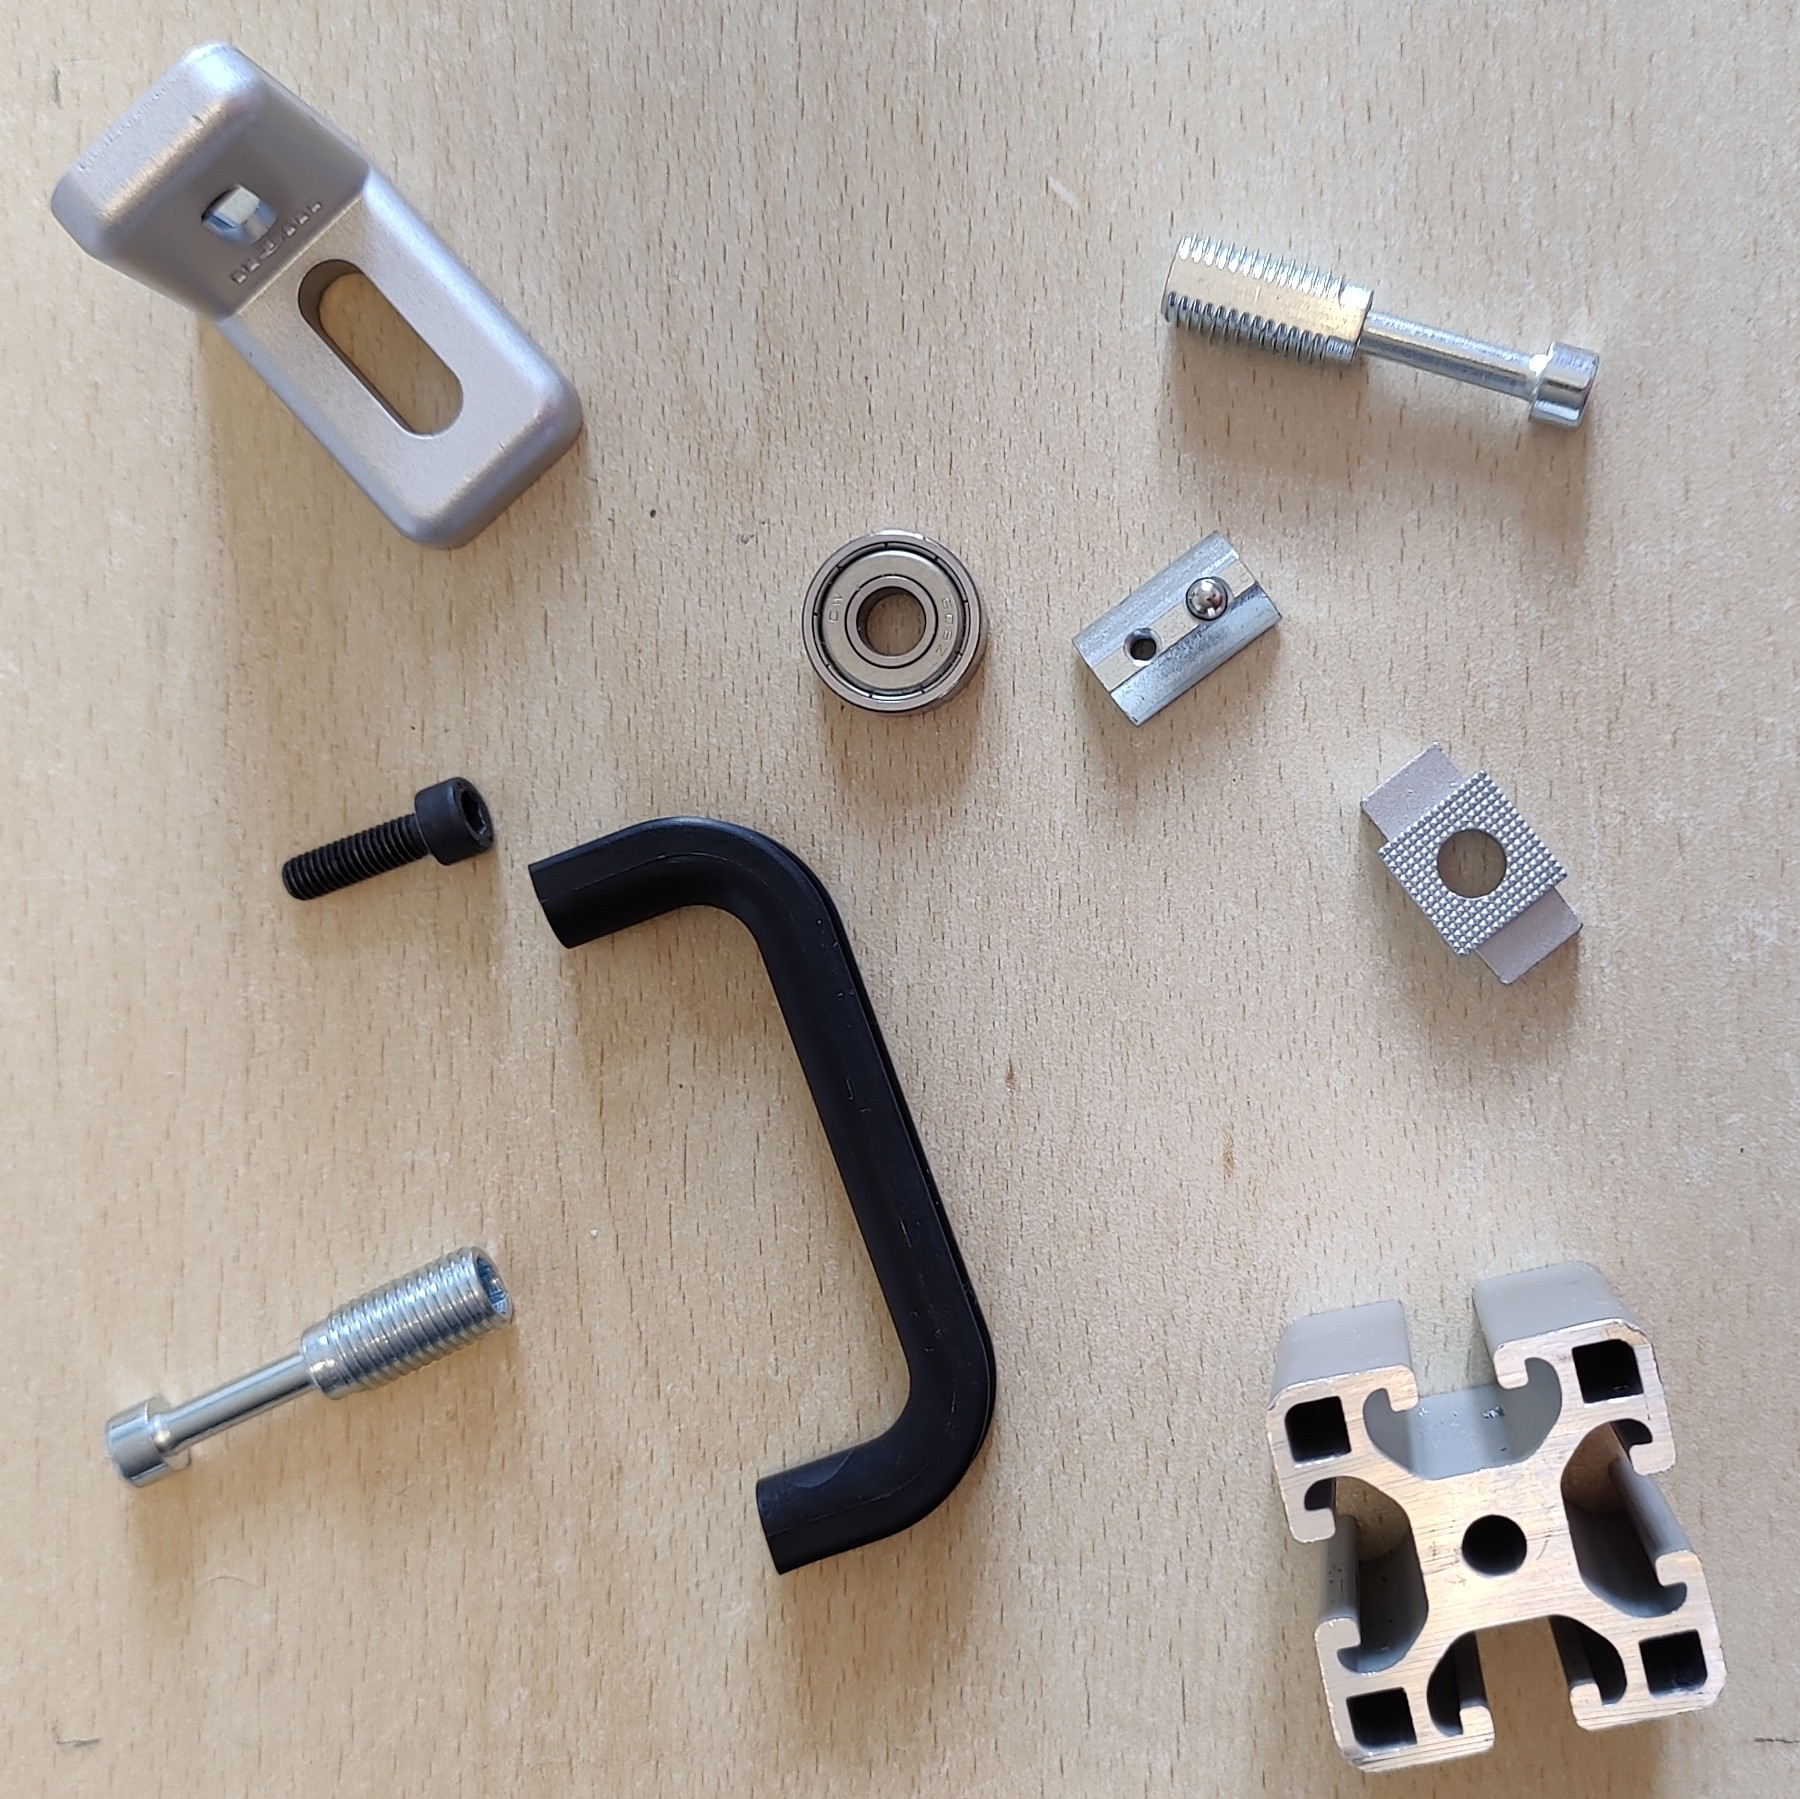Aluminium Extension: (1261, 1257, 1731, 1776)
Ball Bearing: (797, 526, 990, 718)
Multiwinkel: (48, 36, 586, 549)
Pull Handle: (524, 811, 1000, 1575)
Shoulder Socket Head Cap Screw: (100, 1241, 519, 1494), (1158, 234, 1604, 438)
Socket Head Cap Screw: (278, 771, 497, 904)
T Nut Square: (1355, 741, 1586, 990)
T Spring Nut: (1067, 527, 1283, 730)
